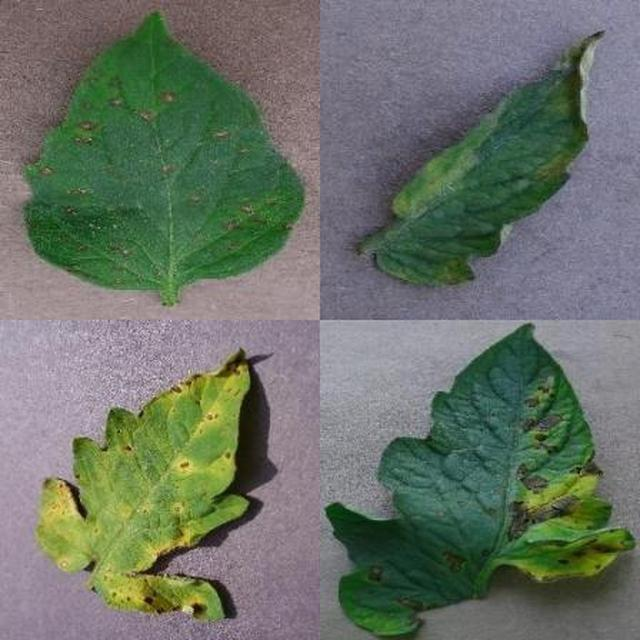Septoria Leaf: (211, 212, 640, 640)
